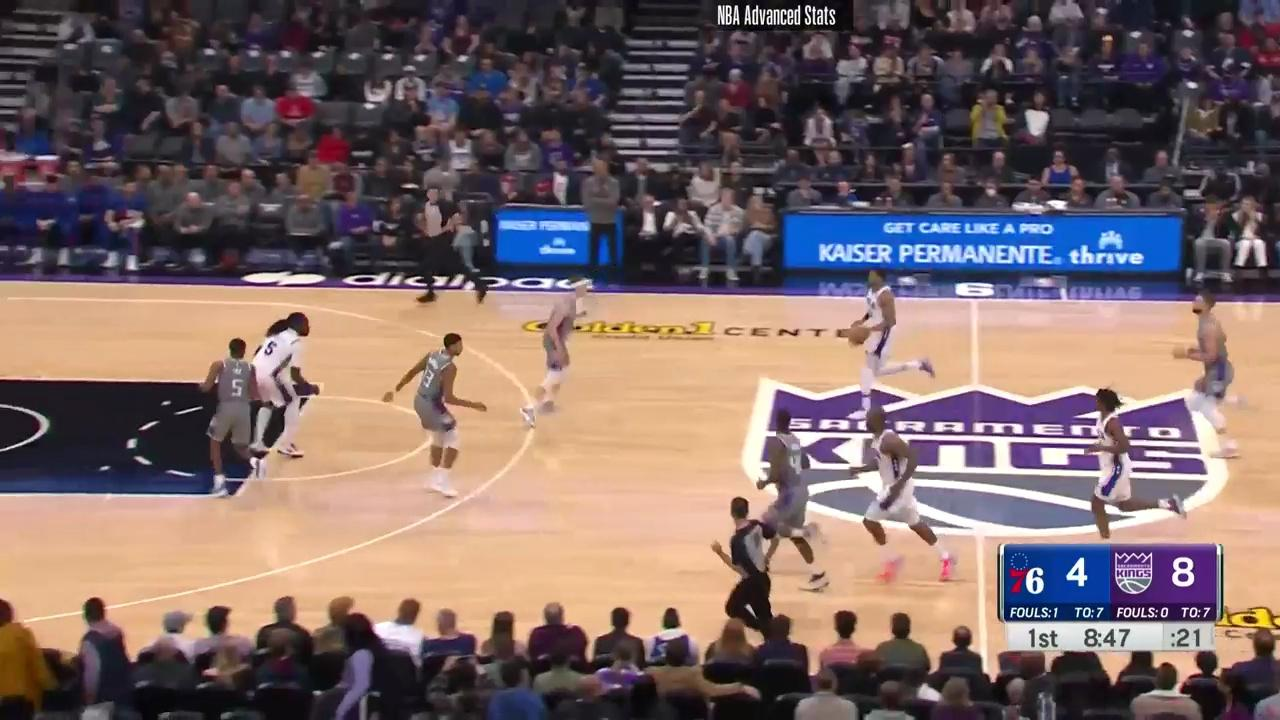Ball: (848, 331, 868, 345)
Person: (846, 405, 955, 590), (1076, 389, 1189, 547), (383, 334, 490, 499), (750, 404, 826, 587), (520, 276, 595, 424), (847, 260, 928, 397), (200, 333, 265, 496), (250, 311, 316, 465), (1181, 291, 1242, 456)
Referee: (715, 495, 789, 640), (407, 185, 490, 308)
